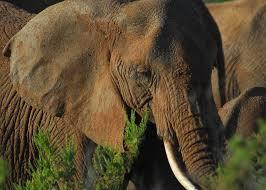elephant: (0, 0, 265, 188)
